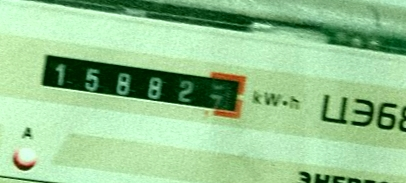1: (51, 62, 69, 88)
2: (176, 77, 196, 105)
5: (82, 66, 101, 93)
7: (207, 92, 223, 109)
8: (113, 71, 133, 97), (145, 73, 164, 100)
screen: (25, 38, 258, 131)
